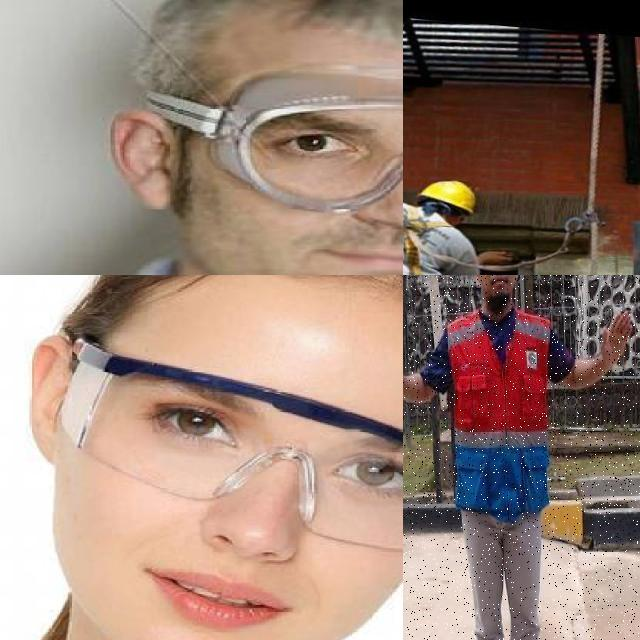Harness: (403, 204, 451, 275)
No_Ear-Protection: (107, 108, 177, 216)
face_nomask: (134, 391, 403, 640), (252, 96, 403, 275)
glasses: (55, 327, 403, 558), (142, 62, 403, 222)
head_nohelmet: (166, 0, 403, 82)
person: (403, 275, 640, 640)
vest: (444, 304, 554, 513)
